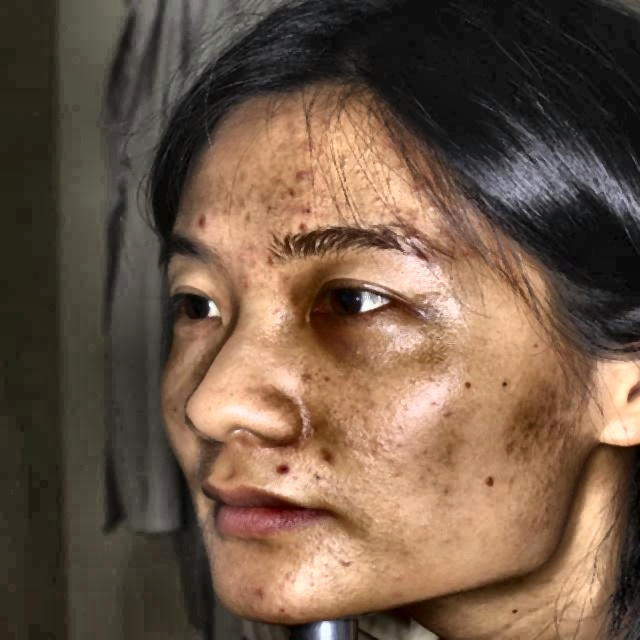pustule: (282, 160, 310, 184), (396, 217, 418, 240), (452, 237, 472, 262), (284, 210, 311, 228), (407, 242, 426, 262), (256, 580, 274, 598), (272, 462, 290, 475)
